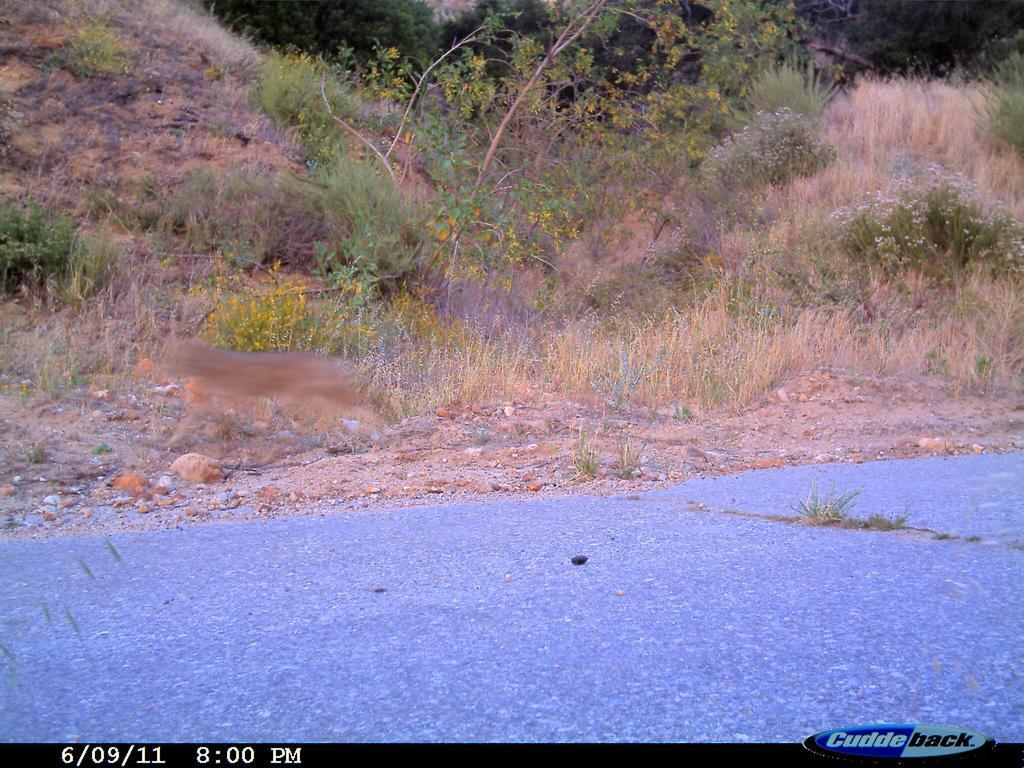coyote: (71, 291, 415, 482)
